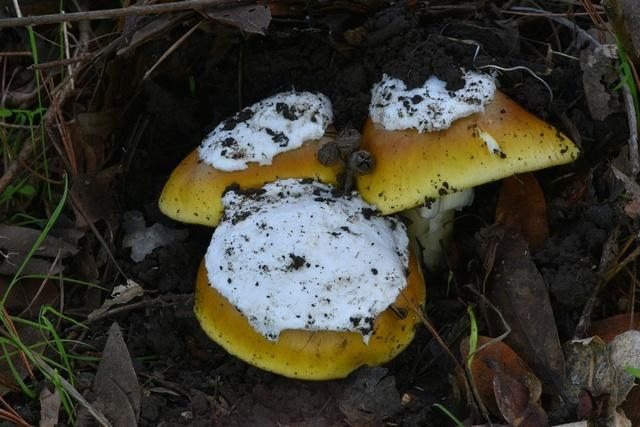edible_mushroom: (157, 88, 427, 381), (354, 62, 580, 273)
